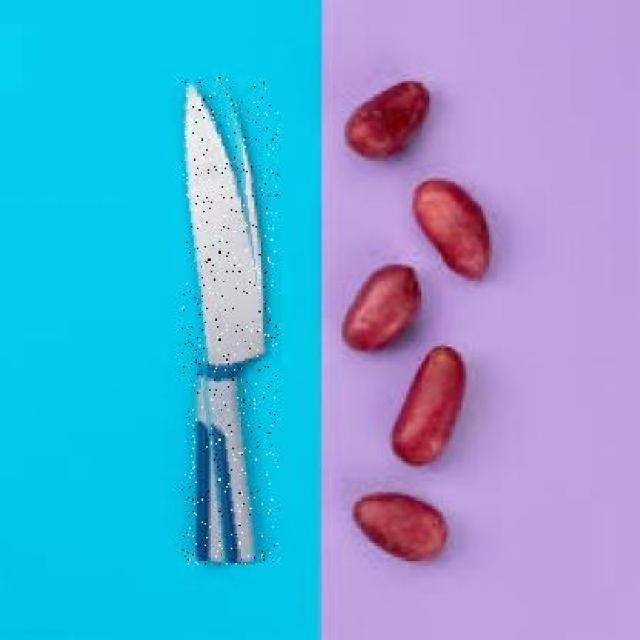knife: (182, 77, 278, 565)
